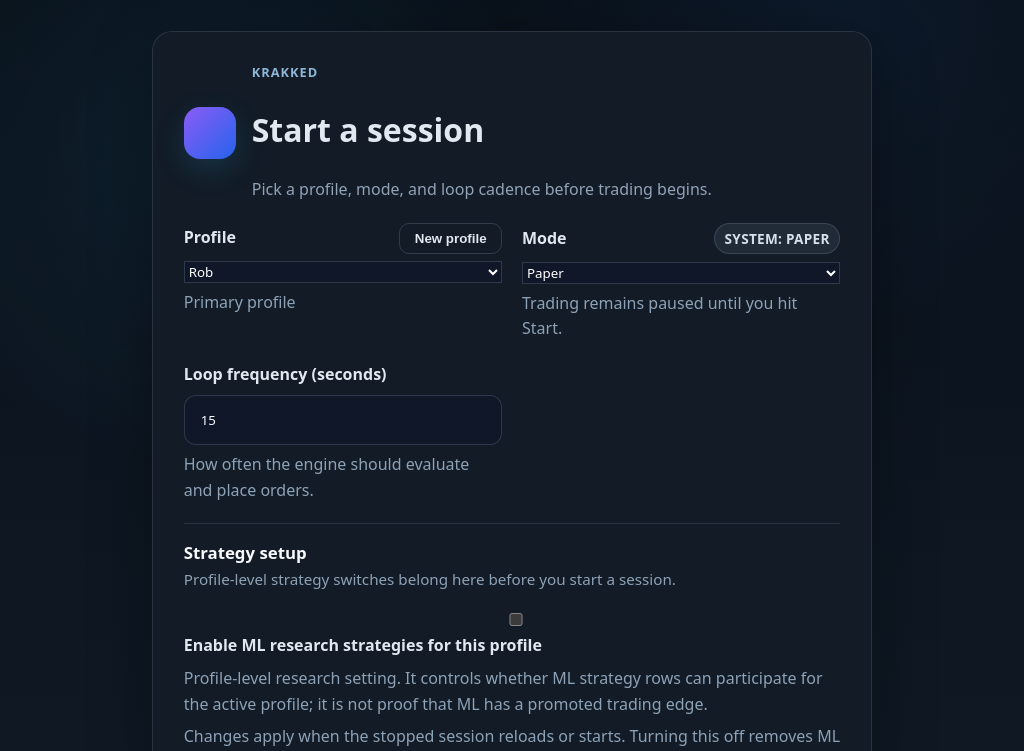
cockpit operator paths › prefills new paper-validation profile name from suggestion endpoint
Expected: the heading "Start a session" is shown, [252, 108, 484, 151]
Click the button "New profile".
click(451, 238)  # box [399, 223, 502, 254]
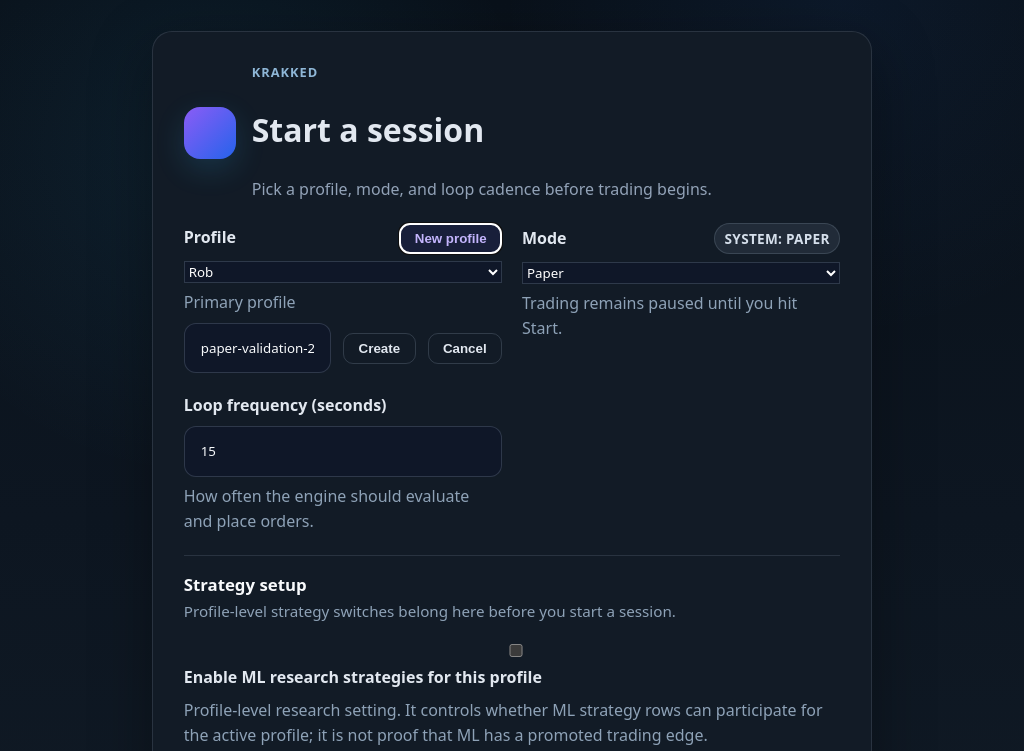
Now the field named "New profile name" holds "paper-validation-2026-06-21", box [184, 323, 331, 374]
